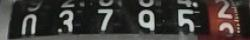digits: (134, 8, 158, 38), (174, 7, 196, 39), (94, 6, 115, 36), (55, 10, 76, 37), (212, 0, 232, 21), (20, 14, 37, 34)
